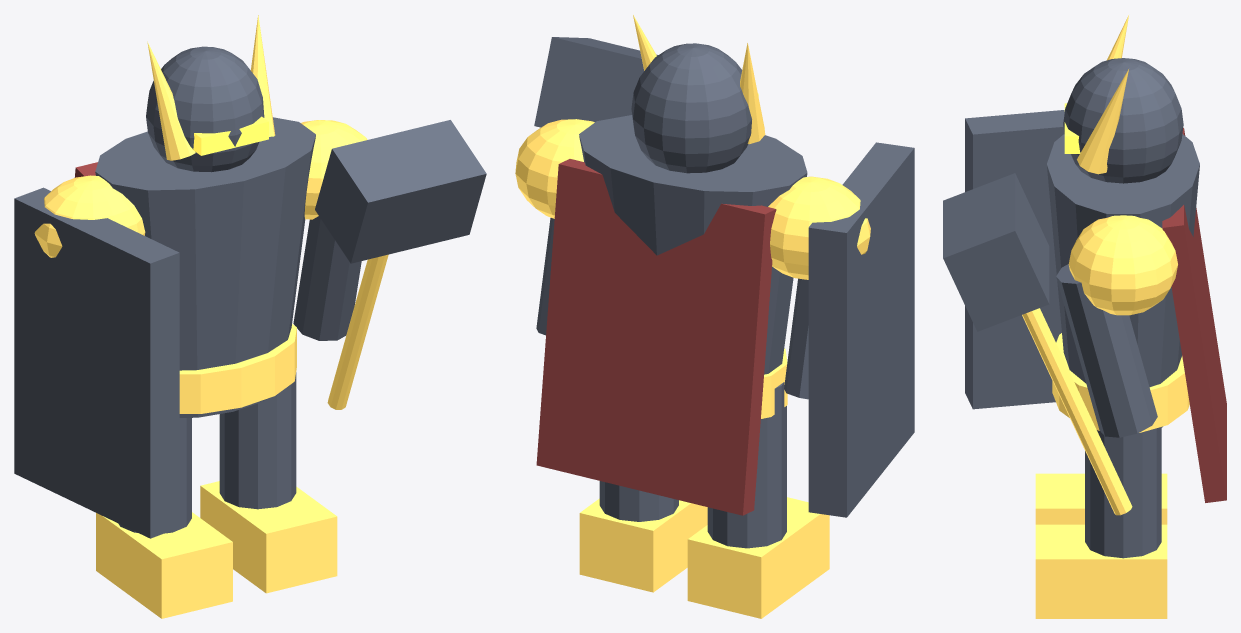
File: hero_juggernaut.glb
The picture shows the model from 3 angles, left to right: view 1: azimuth 30°, elevation 25°; view 2: azimuth 150°, elevation 25°; view 3: azimuth 270°, elevation 25°; orthographic projection. The views are drawn at different scales.
Parts seen in each view (by area): view 1: Cube.004, Cone, Cube.006, Cube, Cube.001, Sphere.002, Cylinder.001, Cylinder.004, Cylinder.002, Sphere, Cylinder.005, Sphere.001 (+4 smaller); view 2: Cube.002, Cube.004, Cone, Sphere.002, Cube, Cube.001, Cube.006, Cylinder, Sphere, Sphere.001, Cylinder.001, Cylinder.003 (+3 smaller); view 3: Cube.004, Cone, Cube.006, Cube.001, Sphere.002, Cube.002, Cylinder.004, Sphere.001, Cylinder.001, Cylinder.005, Cube, Cylinder.002 (+1 smaller).
Part boxes in pixels (bbox=[...]): Cube.004: bbox=[14, 187, 179, 538]; Cone: bbox=[95, 117, 315, 417]; Cube.006: bbox=[315, 120, 486, 263]; Cube: bbox=[96, 512, 232, 618]; Cube.001: bbox=[200, 481, 337, 593]; Sphere.002: bbox=[146, 46, 264, 172]; Cylinder.001: bbox=[219, 372, 296, 509]; Cylinder.004: bbox=[293, 216, 361, 340]; Cylinder.002: bbox=[179, 324, 296, 413]; Sphere: bbox=[34, 175, 145, 257]; Cylinder.005: bbox=[327, 254, 388, 409]; Sphere.001: bbox=[301, 120, 367, 219]; Cube.002: bbox=[536, 159, 776, 515]; Cube.004: bbox=[808, 142, 914, 517]; Cone: bbox=[579, 115, 807, 374]; Sphere.002: bbox=[631, 43, 751, 173]; Cube: bbox=[687, 497, 829, 618]; Cube.001: bbox=[579, 498, 707, 592]; Cube.006: bbox=[534, 37, 658, 127]; Cylinder: bbox=[707, 382, 786, 548]; Sphere: bbox=[768, 176, 870, 279]; Sphere.001: bbox=[515, 119, 594, 218]; Cylinder.001: bbox=[599, 481, 678, 521]; Cylinder.003: bbox=[784, 278, 808, 399]; Cube.004: bbox=[965, 110, 1064, 409]; Cone: bbox=[1046, 134, 1199, 427]; Cube.006: bbox=[943, 173, 1049, 331]; Cube.001: bbox=[1035, 524, 1167, 618]; Sphere.002: bbox=[1063, 58, 1183, 183]; Cube.002: bbox=[1162, 128, 1226, 502]; Cylinder.004: bbox=[1056, 264, 1157, 437]; Sphere.001: bbox=[1068, 215, 1177, 315]; Cylinder.001: bbox=[1085, 427, 1161, 558]; Cylinder.005: bbox=[1022, 308, 1132, 515]; Cube: bbox=[1035, 473, 1167, 524]; Cylinder.002: bbox=[1052, 333, 1189, 432].
Bounding box in the file's own units: 1.7 × 2.42 × 1.16.
